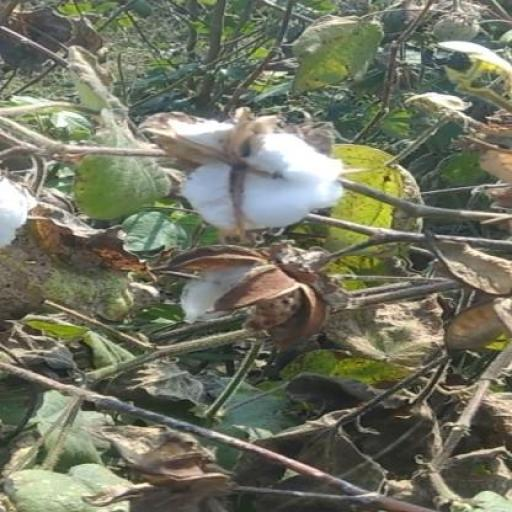cotton_ready: (163, 118, 353, 254)
